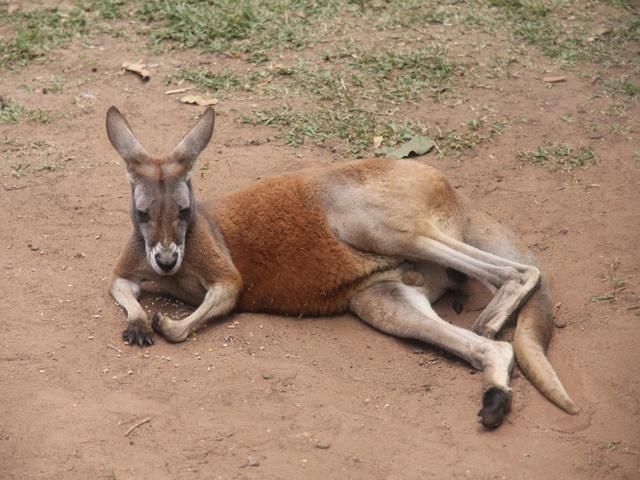kangaroo: (77, 106, 579, 470)
